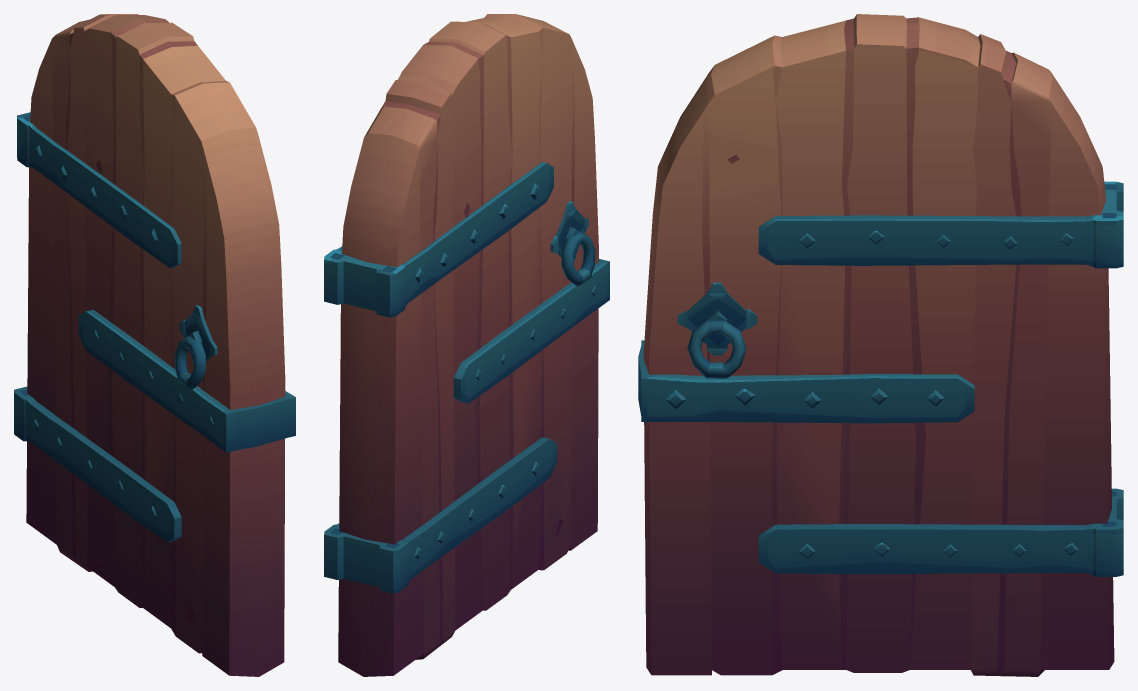
The model's file is Modular_Dungeon_Door_Wooden.fbx.
3 renders of one model, left to right at view 1: azimuth 30°, elevation 25°; view 2: azimuth 150°, elevation 25°; view 3: azimuth 270°, elevation 25°, orthographic. The views are drawn at different scales.
Parts seen in each view (by area): view 1: Door_Wooden; view 2: Door_Wooden; view 3: Door_Wooden.
Part boxes in pixels (x1,y1,x2,y2): Door_Wooden: (14,14,295,676); Door_Wooden: (324,14,609,676); Door_Wooden: (638,14,1123,676).
Bounding box in the file's own units: 0.5811 × 3.33 × 2.26.
1 material, 1 textured.
